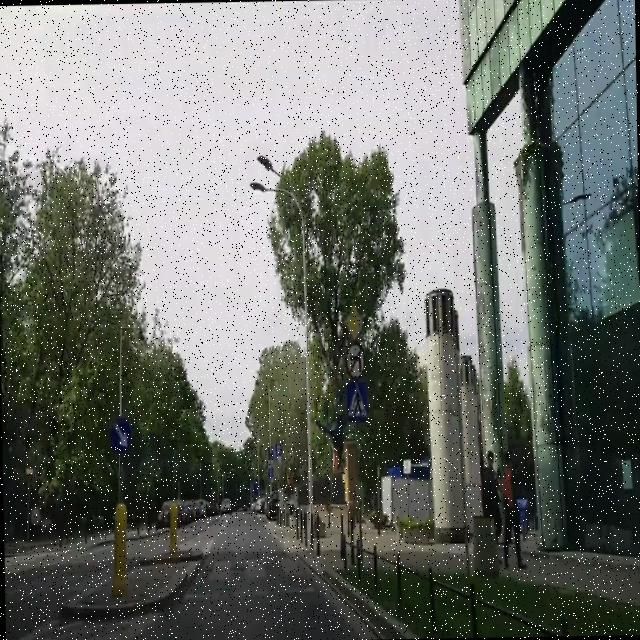Droga z pierwszenstwem: (344, 304, 364, 340)
Przejscie dla pieszych: (347, 381, 368, 420)
Zakaz wjazdu: (24, 460, 34, 480)
